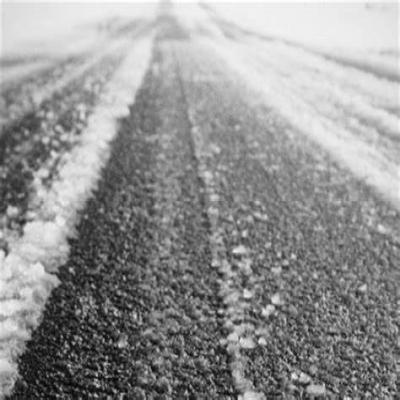iced-road: (10, 12, 400, 400), (0, 43, 128, 254)
